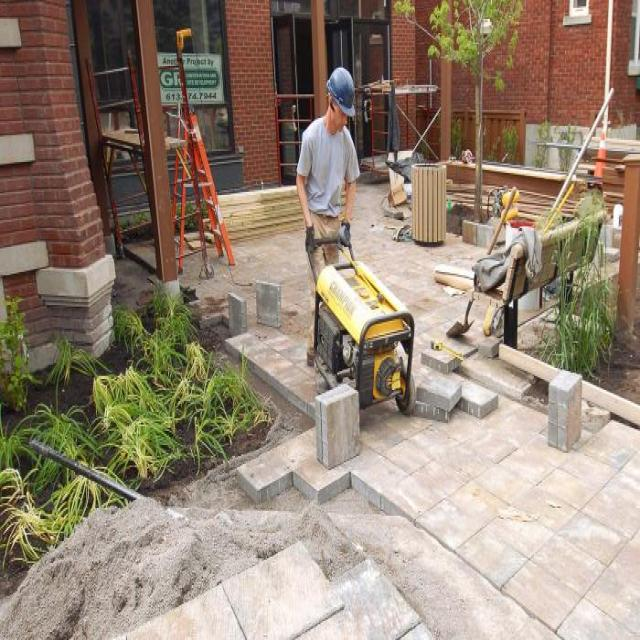brick: (315, 384, 360, 470), (547, 369, 582, 453), (417, 374, 462, 414), (456, 380, 498, 420), (256, 280, 281, 327), (421, 346, 461, 375), (228, 292, 247, 337), (416, 400, 452, 422)
